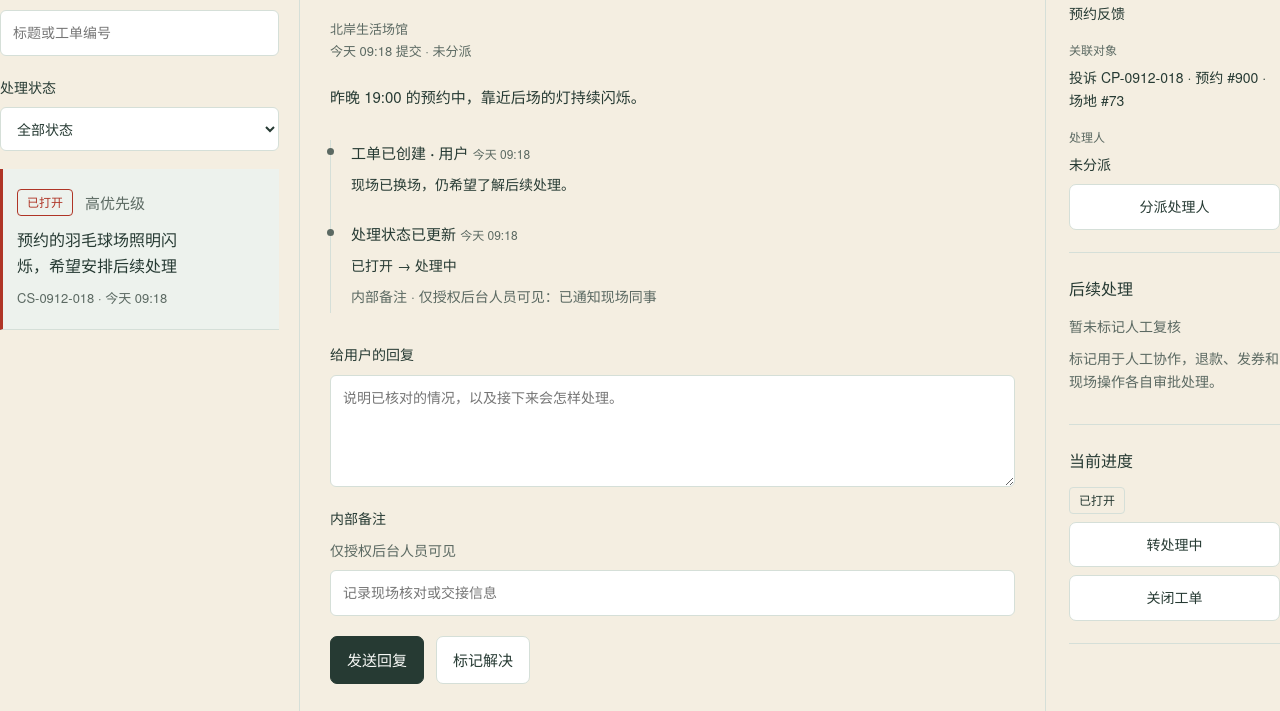
Test: ShiguangVenueCustomerServiceView 写动作 › 关闭与重开各自前置不满足时不发请求
(page scrolled)
Step 1. Click the button with test id "open-close-side" → (1174, 598), box [1069,575,1279,621]
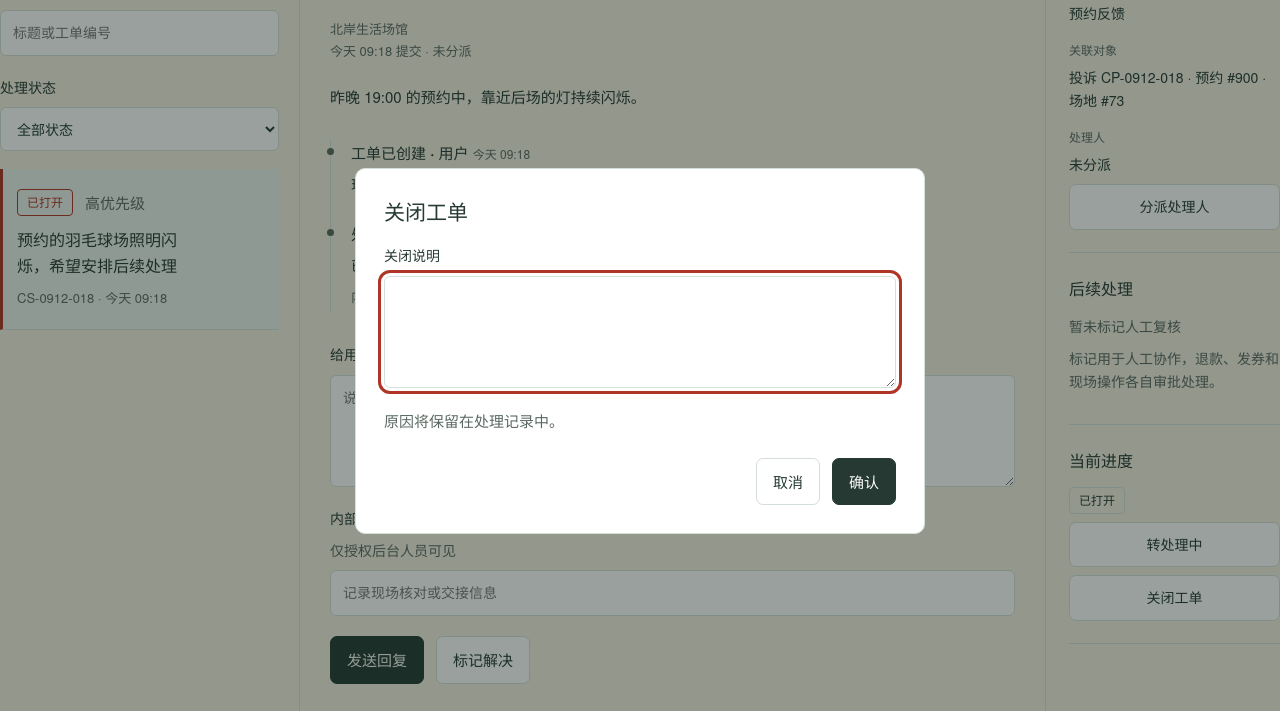
Step 2. Type "重复反馈" into the text box with test id "field-reason" → (640, 332), box [384,276,896,388]
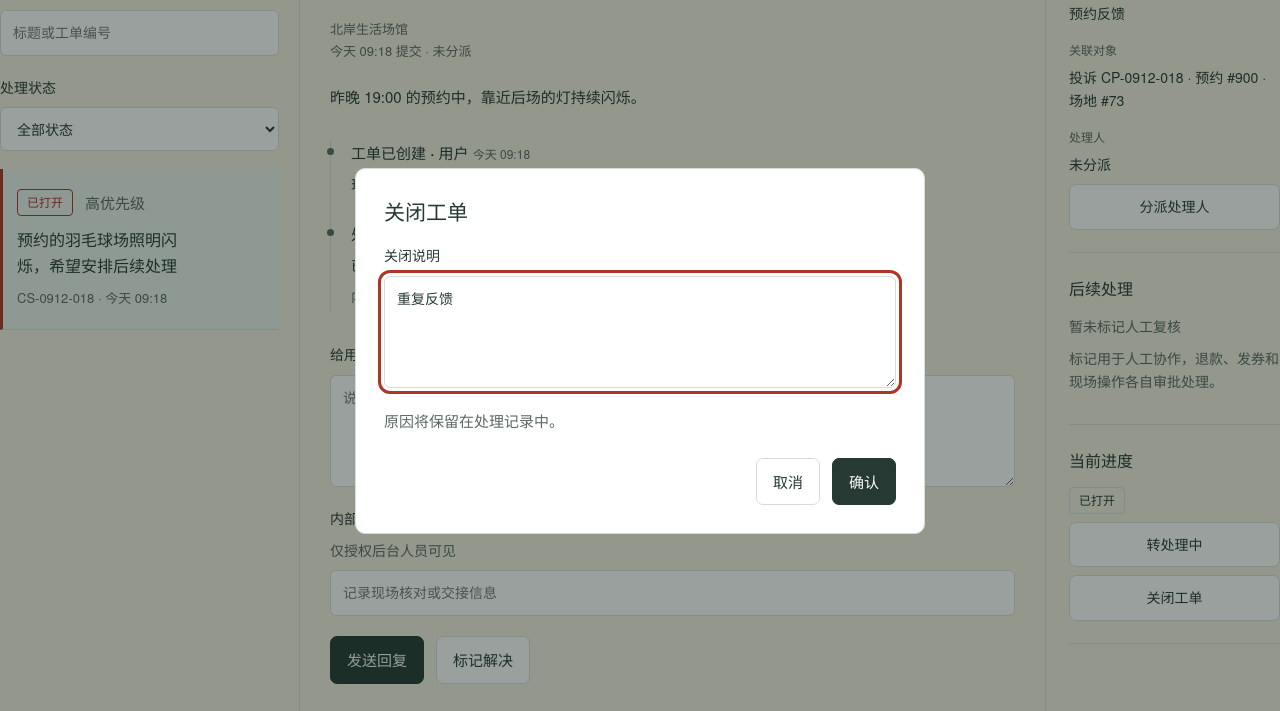
Step 3. Submit the form with test id "action-form", box [384,197,896,505]
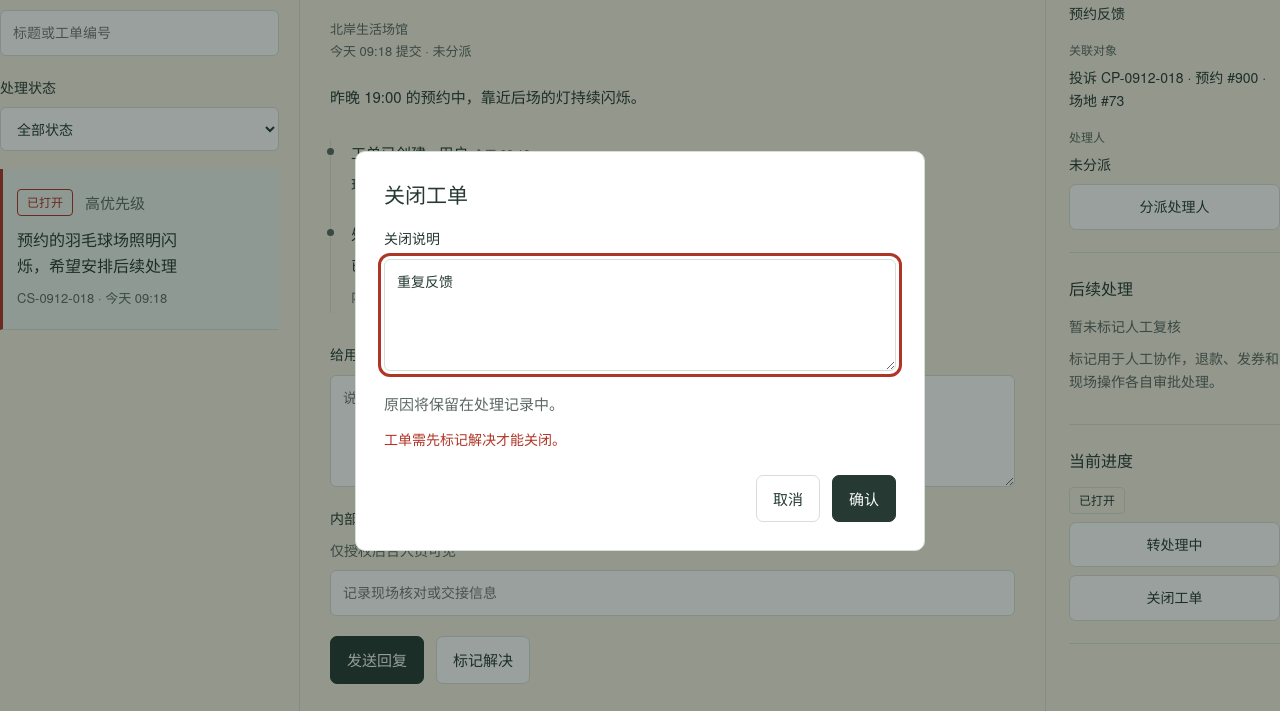
Check: the message with test id "dialog-error" reads "工单需先标记解决才能关闭。", box [384,430,566,450]
